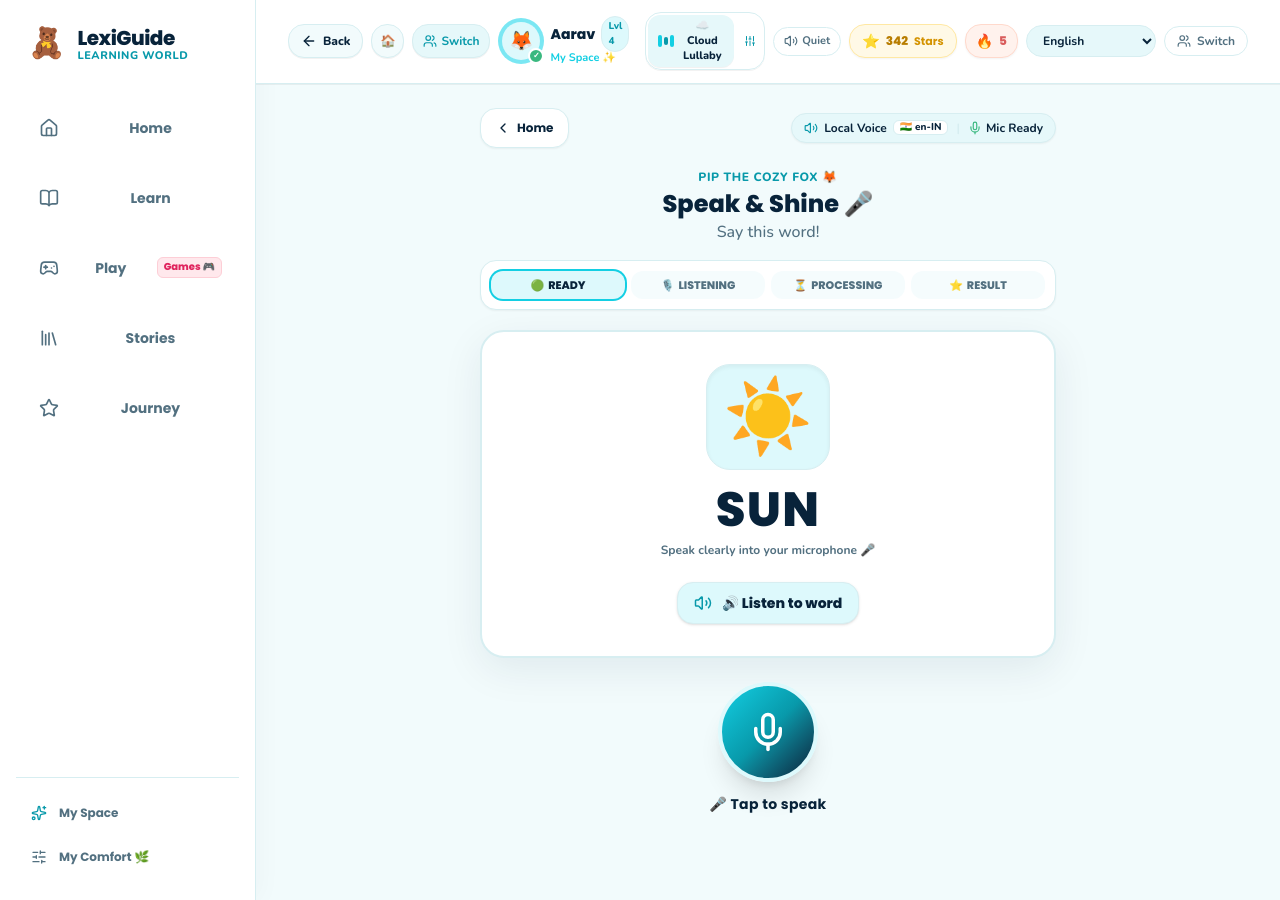
Test case: Step 8: Real AI Speech, Reading & Learning Analysis Test Suite › 5. Whisper unavailable (503) renders a friendly retry error without crashing
The width and height of the screenshot is (1280, 900).
Click the button named "start recording".
click(768, 732)  # box [718,682,818,782]
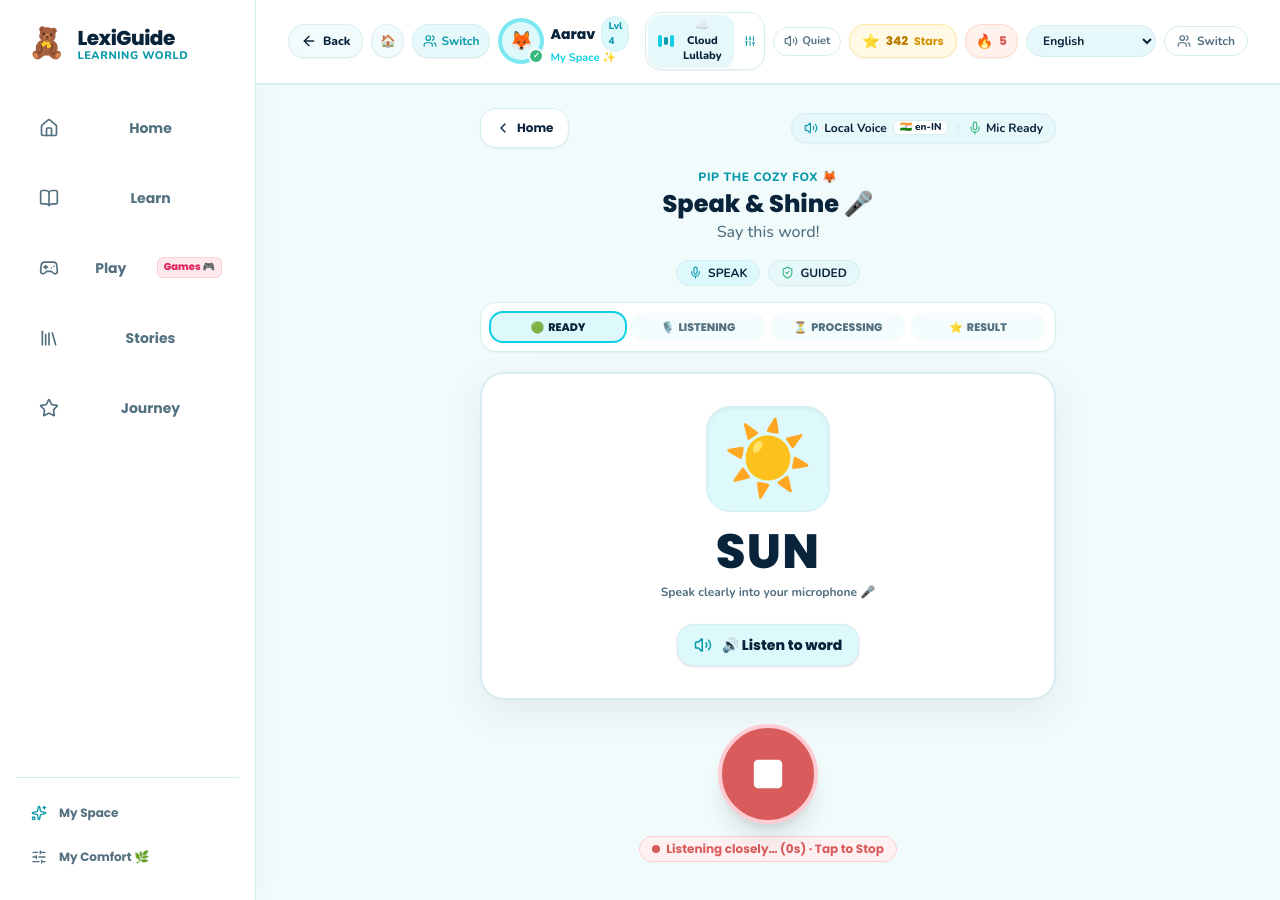
Click the button named "stop recording".
click(768, 774)  # box [718,724,818,824]
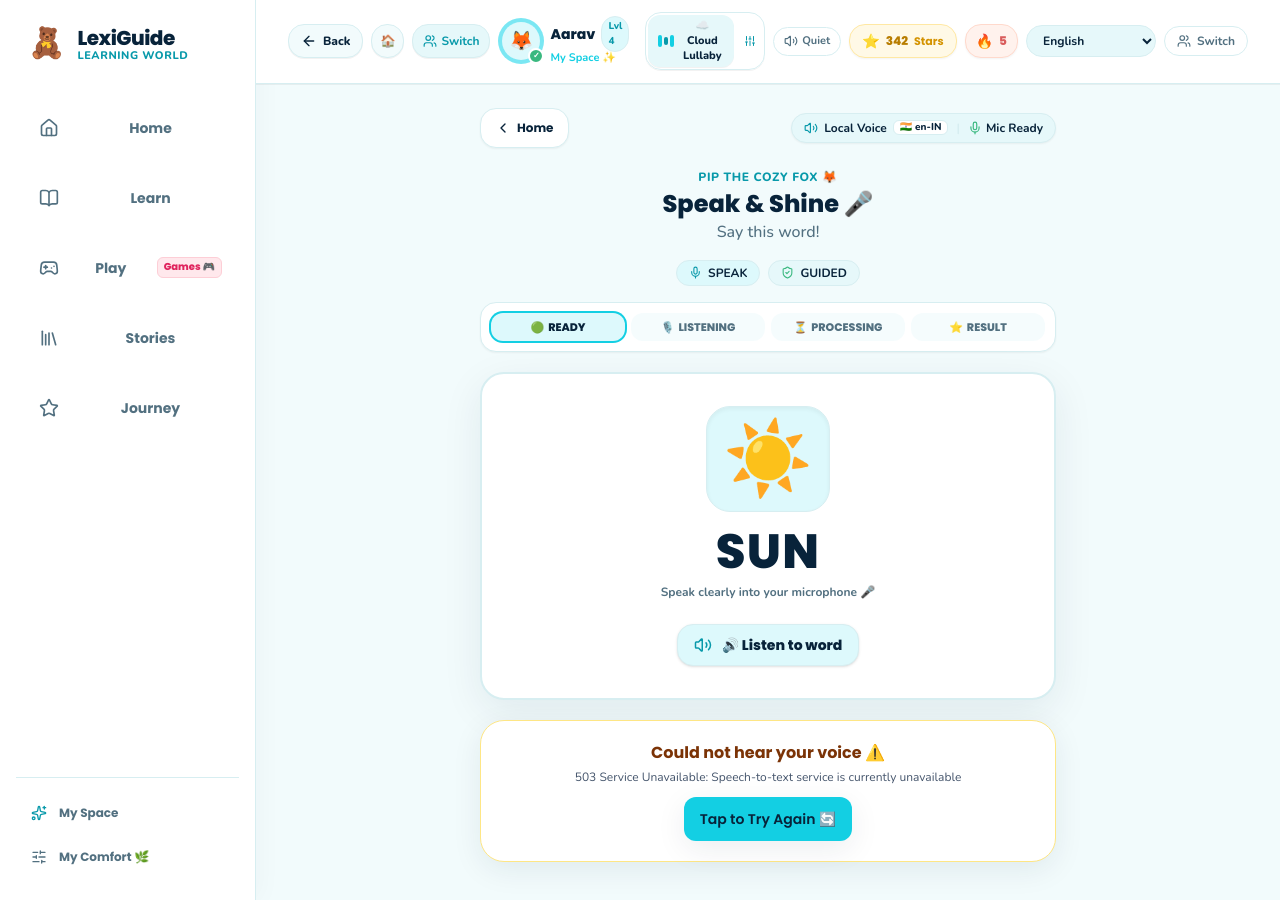
Expected: the text "Could not hear your voice ⚠️" is shown, [651,741,885,764]
Expected: the button "Tap to Try Again 🔄" is shown, [684,797,852,841]
